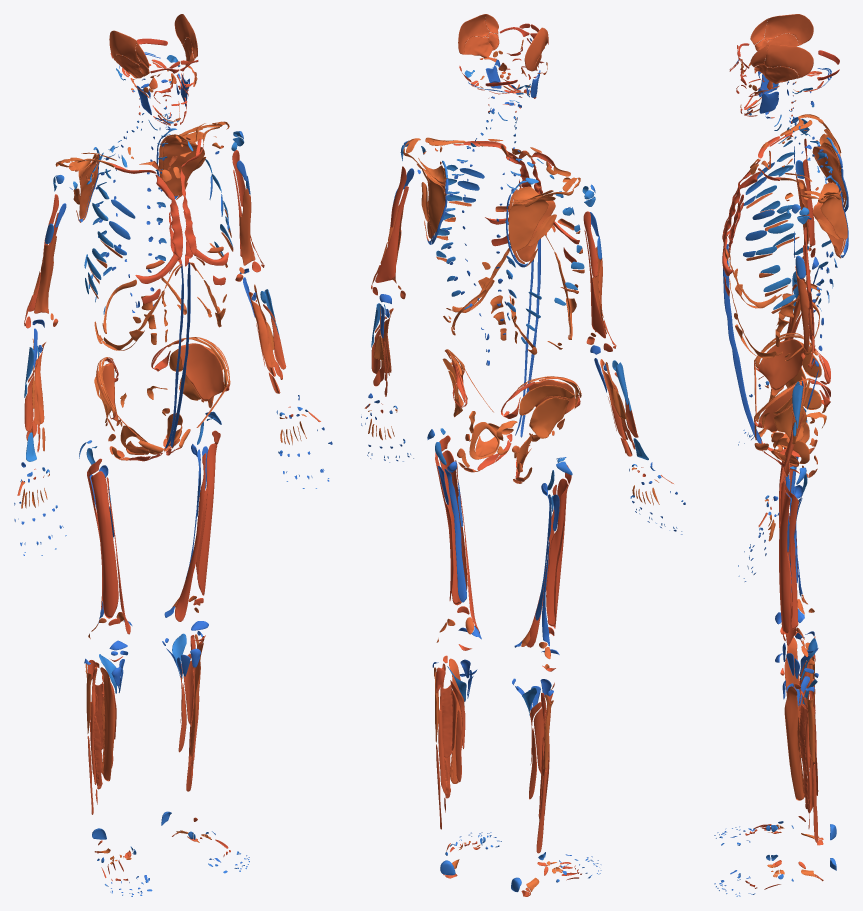
File: insertions.glb
3 views of the same model, side by side, from view 1: azimuth 30°, elevation 25°; view 2: azimuth 150°, elevation 25°; view 3: azimuth 270°, elevation 25° (orthographic). The views are drawn at different scales.
Visible parts, largest first — view 1: Vastus intermedius muscle.or, Iliacus muscle.ol, Subscapularis muscle.ol, Vastus intermedius muscle.ol, Tibialis anterior muscle.or, Vastus medialis muscle.ol, Brachialis muscle.or, Brachialis muscle.ol, Ulnar head of flexor carpi ulnaris.ol, Rectus abdominis muscle.el, Temporalis muscle.o2r; view 2: Infraspinatus muscle.or, Vastus intermedius muscle.ol, Vastus lateralis muscle.or, Gluteus minimus muscle.or, Adductor magnus.el, Medial head of triceps brachii.ol, Tibialis posterior muscle.ol, Gluteus medius muscle.or, Infraspinatus muscle.ol, Vastus intermedius muscle.or, Temporalis muscle.o2l; view 3: Iliacus muscle.or, Tibialis anterior muscle.ol, Vastus intermedius muscle.ol, Temporalis muscle.o2l, Temporalis muscle.o2r, Rectus abdominis muscle.el, Vastus lateralis muscle.ol, Infraspinatus muscle.ol, Subscapularis muscle.or, Gluteus minimus muscle.ol, Brachialis muscle.ol, Iliacus muscle.ol (+17 smaller).
Part boxes in pixels (x1,y1,x2,y2): Vastus intermedius muscle.or: [91, 471, 118, 618]; Iliacus muscle.ol: [180, 343, 224, 401]; Subscapularis muscle.ol: [163, 136, 204, 196]; Vastus intermedius muscle.ol: [197, 443, 217, 595]; Tibialis anterior muscle.or: [100, 667, 115, 781]; Vastus medialis muscle.ol: [175, 453, 206, 621]; Brachialis muscle.or: [34, 235, 56, 313]; Brachialis muscle.ol: [239, 188, 255, 265]; Ulnar head of flexor carpi ulnaris.ol: [248, 292, 276, 367]; Rectus abdominis muscle.el: [170, 262, 190, 446]; Temporalis muscle.o2r: [109, 30, 139, 64]; Infraspinatus muscle.or: [508, 196, 555, 251]; Vastus intermedius muscle.ol: [439, 450, 467, 605]; Vastus lateralis muscle.or: [546, 465, 571, 626]; Gluteus minimus muscle.or: [529, 397, 569, 438]; Adductor magnus.el: [444, 469, 481, 639]; Medial head of triceps brachii.ol: [375, 186, 408, 282]; Tibialis posterior muscle.ol: [441, 684, 456, 757]; Gluteus medius muscle.or: [519, 385, 574, 415]; Infraspinatus muscle.ol: [417, 163, 445, 231]; Vastus intermedius muscle.or: [553, 478, 567, 628]; Temporalis muscle.o2l: [458, 14, 489, 54]; Iliacus muscle.or: [758, 339, 805, 390]; Tibialis anterior muscle.ol: [784, 686, 804, 800]; Vastus intermedius muscle.ol: [779, 490, 790, 634]; Temporalis muscle.o2l: [764, 44, 813, 77]; Temporalis muscle.o2r: [764, 14, 813, 45]; Rectus abdominis muscle.el: [723, 247, 761, 443]; Vastus lateralis muscle.ol: [783, 479, 798, 629]; Infraspinatus muscle.ol: [820, 194, 847, 239]; Subscapularis muscle.or: [812, 145, 844, 202]; Gluteus minimus muscle.ol: [774, 405, 806, 441]; Brachialis muscle.ol: [795, 266, 809, 352]; Iliacus muscle.ol: [758, 382, 805, 432].
Bounding box in the file's own units: 0.6605 × 1.65 × 0.2414.
